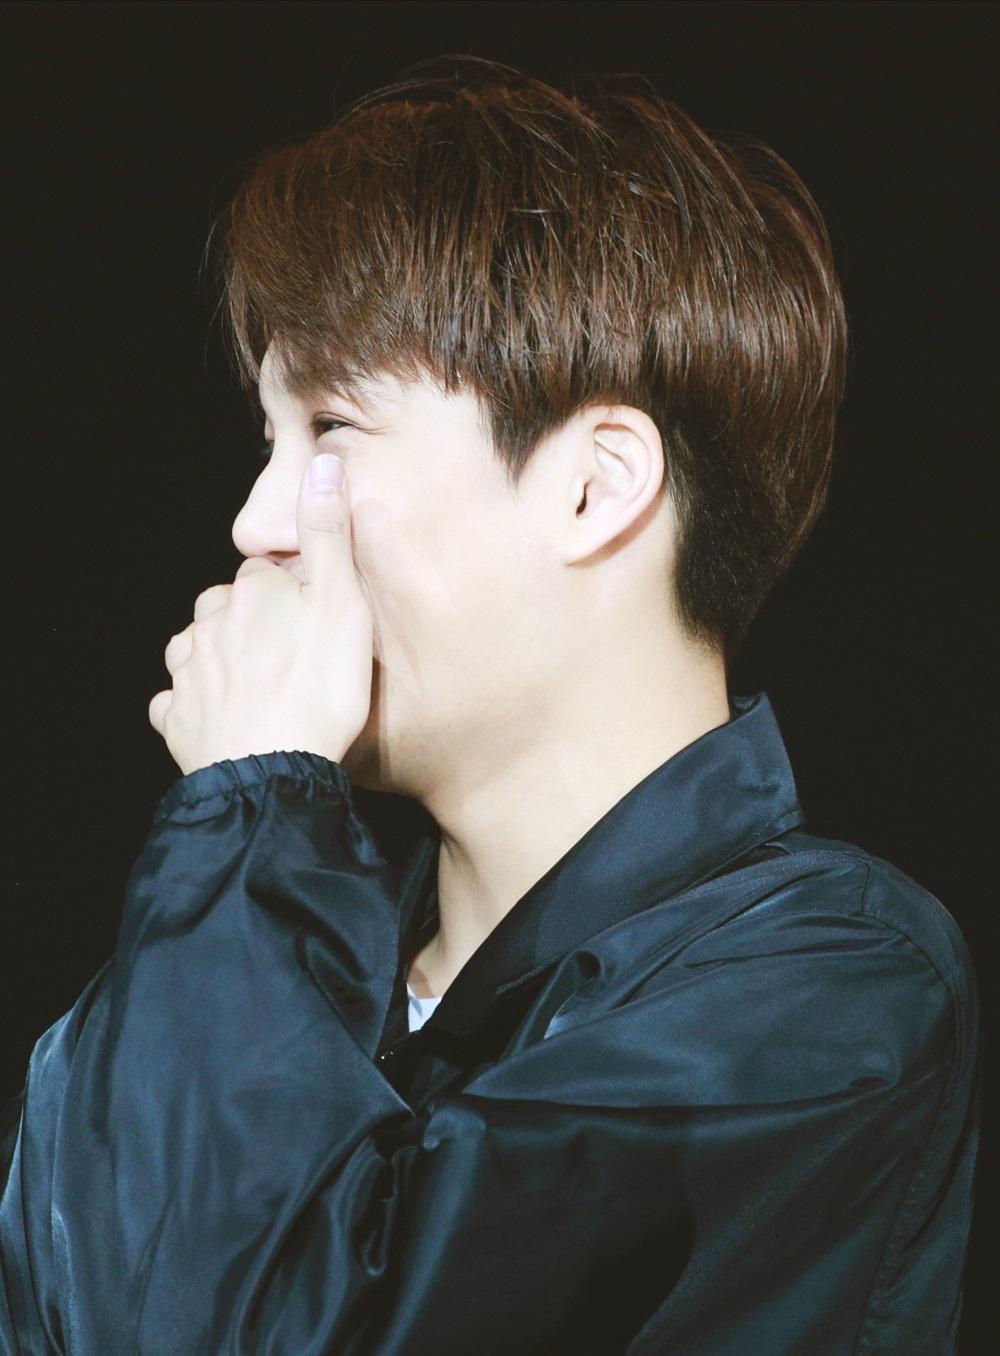face: (231, 322, 527, 781)
